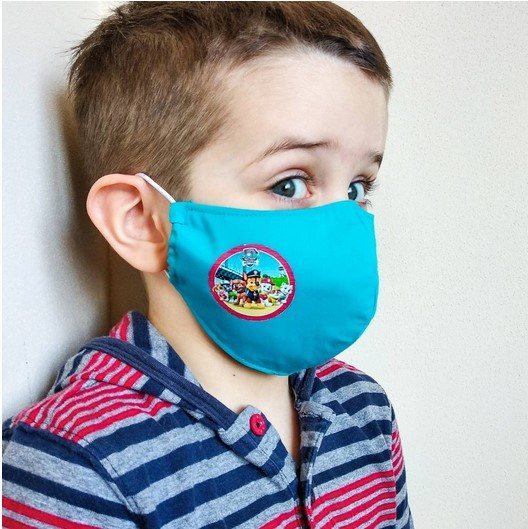face_with_mask: (83, 9, 396, 387)
